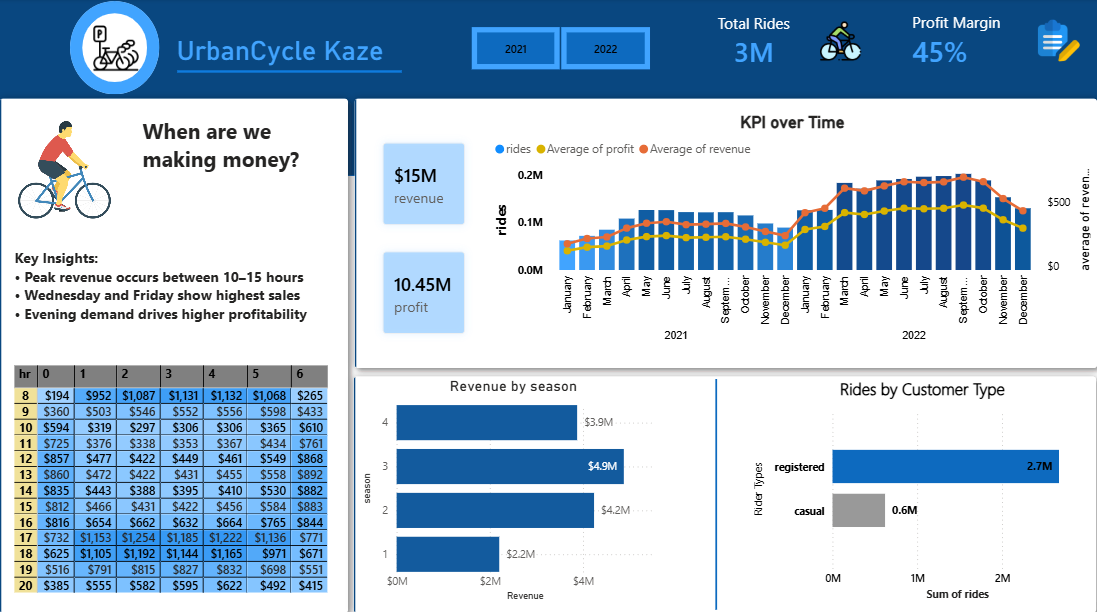

This screenshot's page, from the dashboard's own definition file:
{"tool":"powerbi","page":{"name":"Dashboard","canvas":[1280,720],"ordinal":0},"visuals":[{"type":"shape","box":[9.2,0,1270.8,201.5],"z":0},{"type":"cardVisual","fields":{"Data":["Sum(Query1.rides)"]},"box":[0,101.2,421.2,610],"z":1000},{"type":"cardVisual","fields":{"Data":["Sum(Query1.rides)"]},"box":[404.3,101.4,870,331.4],"z":2000},{"type":"cardVisual","fields":{"Data":["Sum(Query1.rides)"]},"box":[403.6,417.6,870,293.3],"z":3000},{"type":"image","box":[28.6,131.4,115.7,127.1],"z":4000},{"type":"pivotTable","fields":{"Rows":["Query1.hr"],"Values":["Avg(Query1.revenue)"],"Columns":["Query1.weekday"]},"box":[24.4,412.5,368.8,284],"z":5000},{"type":"textbox","box":[170,128.6,201.4,128.6],"z":6000},{"type":"textbox","box":[24.3,278.6,385.7,115.7],"z":7000},{"type":"lineClusteredColumnComboChart","title":"KPI over Time","fields":{"Y":["Sum(Query1.rides)"],"Category":["Query1.dteday.Variation.Date Hierarchy.Year","Query1.dteday.Variation.Date Hierarchy.Month","Query1.dteday.Variation.Date Hierarchy.Day"],"Y2":["Avg(Query1.profit)","Avg(Query1.revenue)"]},"box":[571.1,129.2,689.2,288.3],"z":8000},{"type":"clusteredBarChart","fields":{"Category":["Query1.season"],"Y":["Sum(Query1.revenue)"]},"box":[420.7,430.1,354.3,260],"z":9000},{"type":"barChart","title":"Rides by Customer Type","fields":{"Category":["Query1.rider_type"],"Y":["Sum(Query1.rides)"]},"box":[866.4,430.1,392.9,260],"z":10000},{"type":"shape","box":[790.7,432.9,75.7,262.9],"z":11000},{"type":"cardVisual","title":"KPI over Time","fields":{"Data":["Sum(Query1.revenue)","Sum(Query1.profit)"]},"box":[420.2,135.9,150.8,275.8],"z":12000},{"type":"cardVisual","fields":{"Data":["Sum(Query1.rides)","Query1.Profit Margin"]},"box":[800,2.6,473.7,107.9],"z":13000},{"type":"shape","box":[92.3,2.7,101.8,106.4],"z":14000},{"type":"image","box":[103.6,25,81.8,62.3],"z":15000},{"type":"shape","title":"UrbanCycle Kaze","box":[214.1,40.5,255.9,42.7],"z":16000},{"type":"slicer","fields":{"Values":["Query1.Years"]},"box":[523.7,25,252.6,61.8],"z":17000}]}

Visuals, with their boxes in screenshot pixels (x1, y1, x2, y2), scaled from the page's 1280x720 canvas onto the 1097x612 screenshot:
shape: crop(8, 0, 1096, 171)
cardVisual - Sum(Query1.rides): crop(0, 86, 361, 605)
cardVisual - Sum(Query1.rides): crop(346, 86, 1092, 368)
cardVisual - Sum(Query1.rides): crop(346, 355, 1092, 604)
image: crop(25, 112, 124, 220)
pivotTable - Query1.hr x Avg(Query1.revenue): crop(21, 351, 337, 592)
textbox: crop(146, 109, 318, 219)
textbox: crop(21, 237, 351, 335)
"KPI over Time" lineClusteredColumnComboChart: crop(489, 110, 1080, 355)
clusteredBarChart - Query1.season x Sum(Query1.revenue): crop(361, 366, 664, 587)
"Rides by Customer Type" barChart: crop(743, 366, 1079, 587)
shape: crop(678, 368, 743, 591)
"KPI over Time" cardVisual: crop(360, 116, 489, 350)
cardVisual - Sum(Query1.rides) x Query1.Profit Margin: crop(686, 2, 1092, 94)
shape: crop(79, 2, 166, 93)
image: crop(89, 21, 159, 74)
"UrbanCycle Kaze" shape: crop(183, 34, 403, 71)
slicer - Query1.Years: crop(449, 21, 665, 74)
